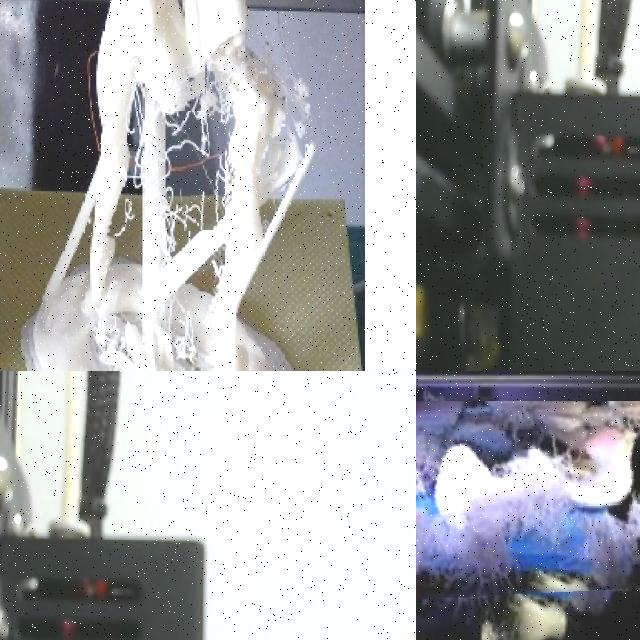spaghetti: (416, 401, 640, 595), (172, 111, 226, 231)
